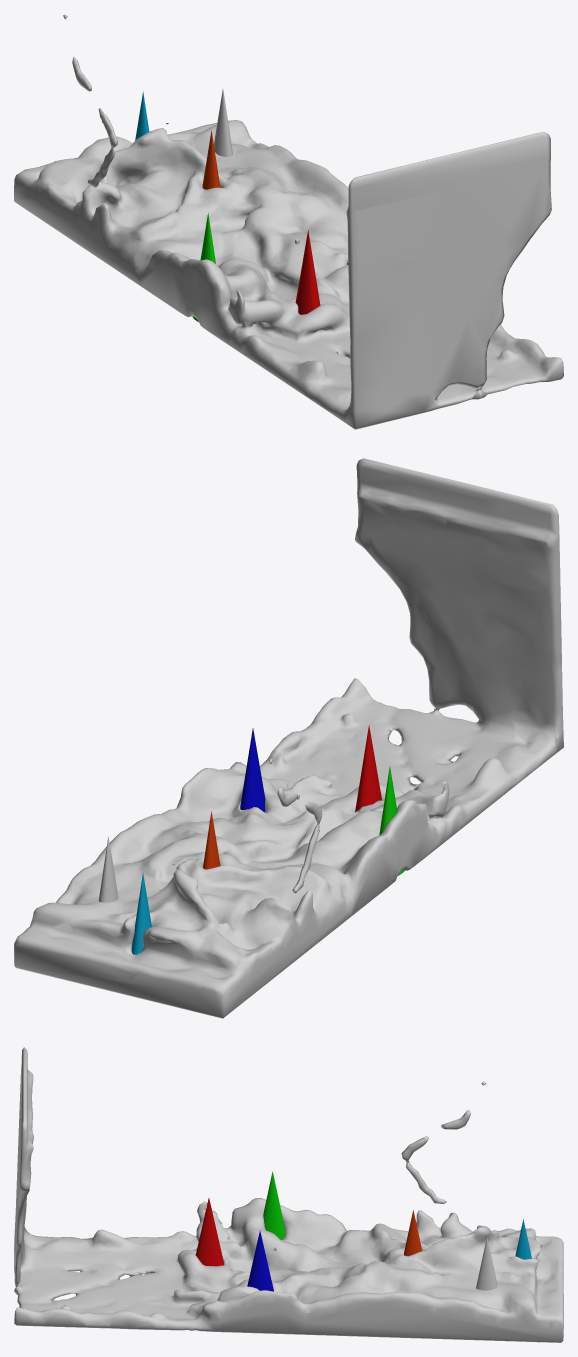
The picture shows the model from 3 angles, top to bottom: view 1: azimuth 30°, elevation 25°; view 2: azimuth 150°, elevation 25°; view 3: azimuth 270°, elevation 25°; orthographic projection. The views are drawn at different scales.
Visible parts, largest first — view 1: Liquid_Domain, 円錐.001, 円錐, 円錐.004; view 2: Liquid_Domain, 円錐.002, 円錐.001, 円錐.005, 円錐; view 3: Liquid_Domain, 円錐.001, 円錐.003, 円錐.002, 円錐, 円錐.004.
Part boxes in pixels (x1,y1,x2,y2): Liquid_Domain: (14,14,563,429); 円錐.001: (295,230,320,314); 円錐: (214,89,232,156); 円錐.004: (202,131,220,189); Liquid_Domain: (14,458,563,1018); 円錐.002: (240,728,265,812); 円錐.001: (355,725,381,812); 円錐.005: (131,873,151,954); 円錐: (98,836,118,902); Liquid_Domain: (14,1047,563,1342); 円錐.001: (195,1198,223,1266); 円錐.003: (263,1171,284,1239); 円錐.002: (247,1230,273,1291); 円錐: (476,1237,497,1290); 円錐.004: (404,1210,422,1256).
Bounding box in the file's own units: 129 × 158 × 361.
